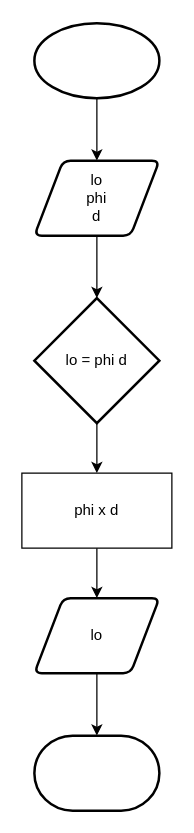
Image size: 194x833. Some labels were removed from this diagram. The box of each missing label's shape, as (x1, y1, x2, y2) in pixels:
end: (32, 734, 160, 811)
Star: (32, 21, 160, 99)
